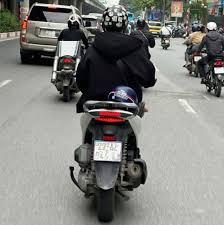Bien-so: (93, 140, 122, 162), (46, 29, 56, 38), (214, 66, 223, 74), (193, 55, 201, 61)
